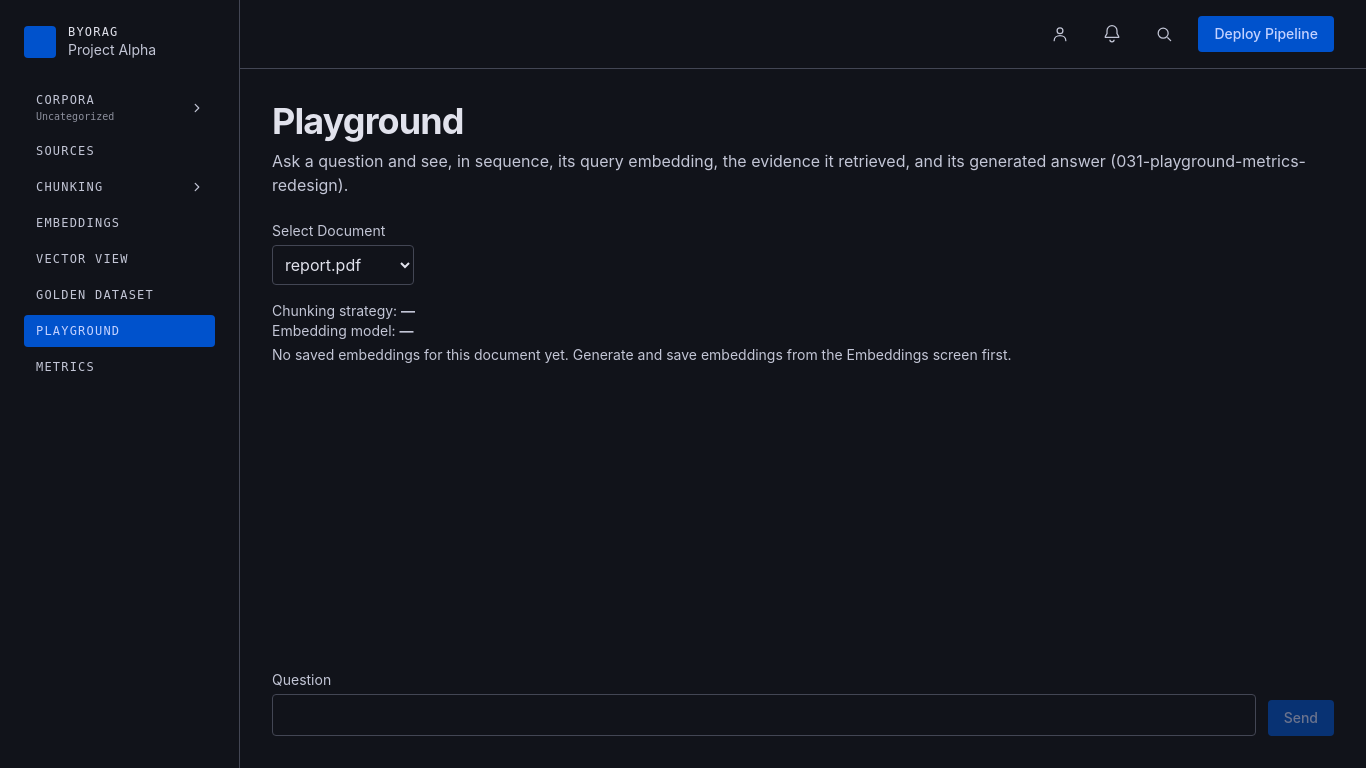
Test case: Playground question scope selector (019-metrics-dashboard US4) › shows a corpus-scoped message when no embeddings are saved and Entire Corpus is selected
Select "Entire Corpus" in the dropdown labelled "Select Document" at [343, 265], box [272,245,414,285]
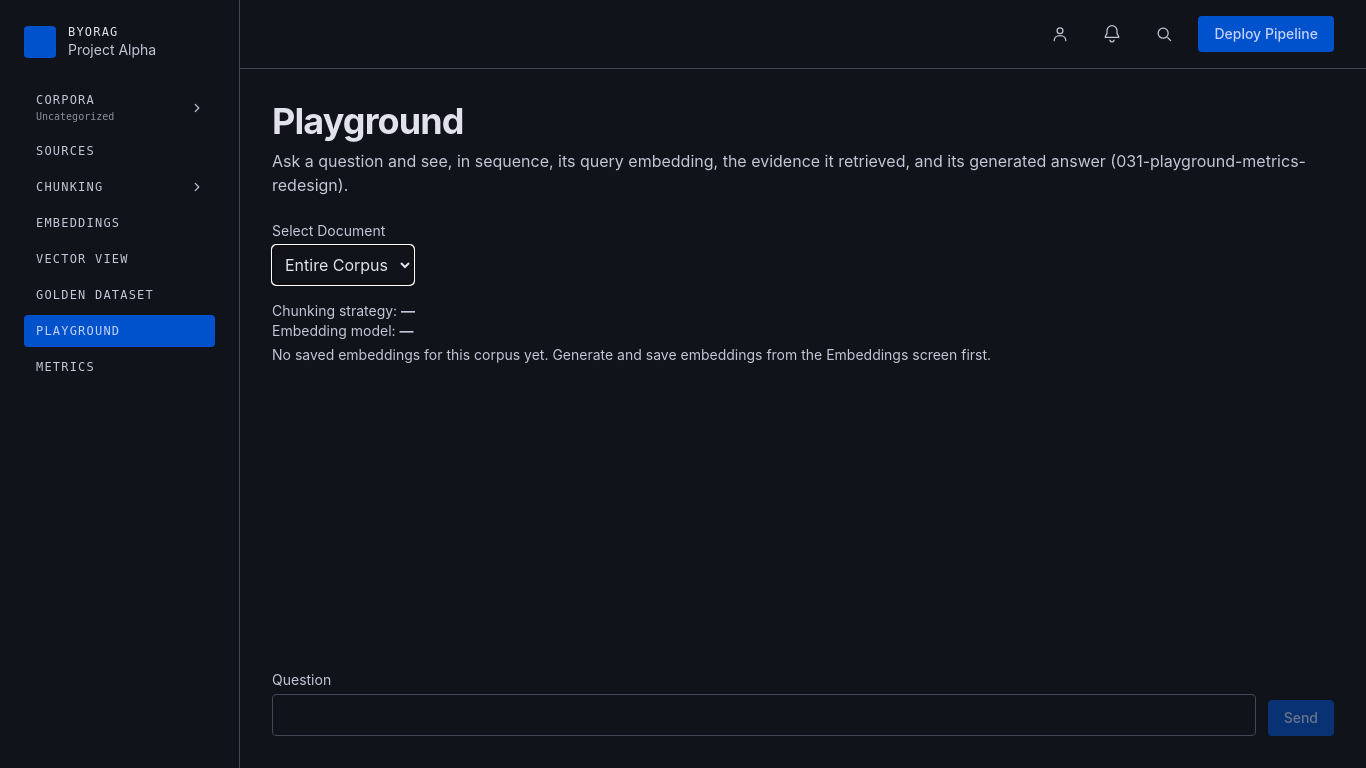
Result: the text "No saved embeddings for this corpus yet" is shown at [272,346,991,363]
